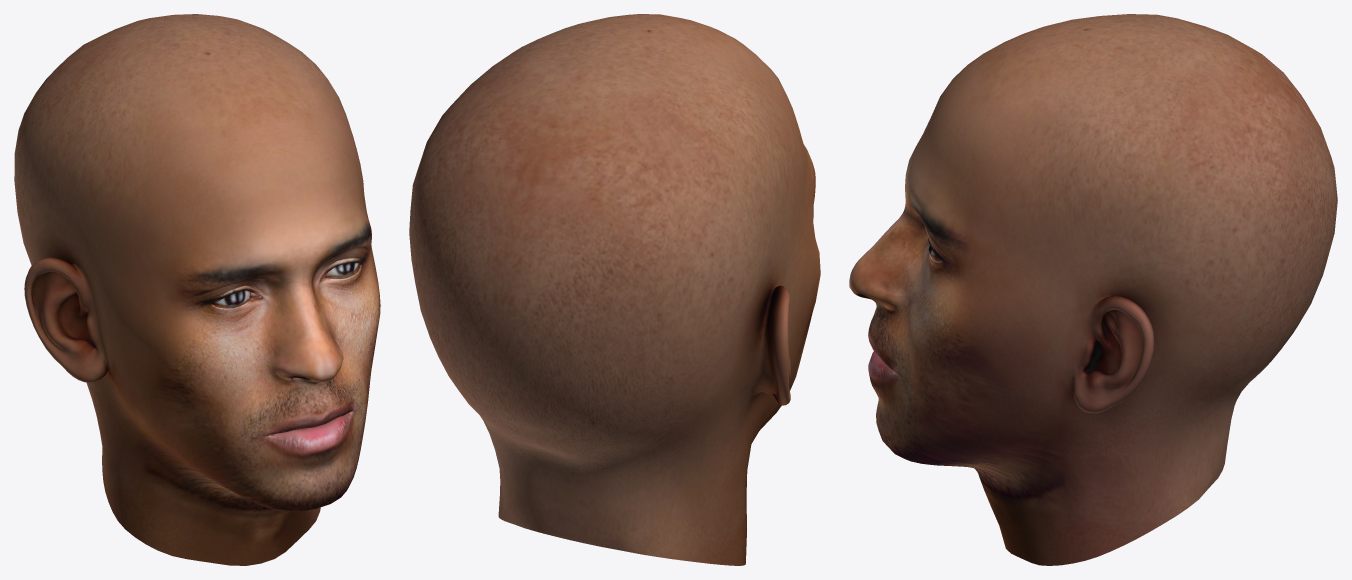
File: Kobe Face model.fbx
3 renders of one model, left to right at view 1: azimuth 30°, elevation 25°; view 2: azimuth 150°, elevation 25°; view 3: azimuth 270°, elevation 25°, orthographic. The views are drawn at different scales.
Visible parts, largest first — view 1: Head; view 2: Head; view 3: Head.
Part boxes in pixels (x1,y1,x2,y2): Head: [14, 14, 380, 565]; Head: [409, 14, 820, 565]; Head: [849, 14, 1337, 565].
Size of the model in its own units: 0.1932 by 0.2752 by 0.2395.
